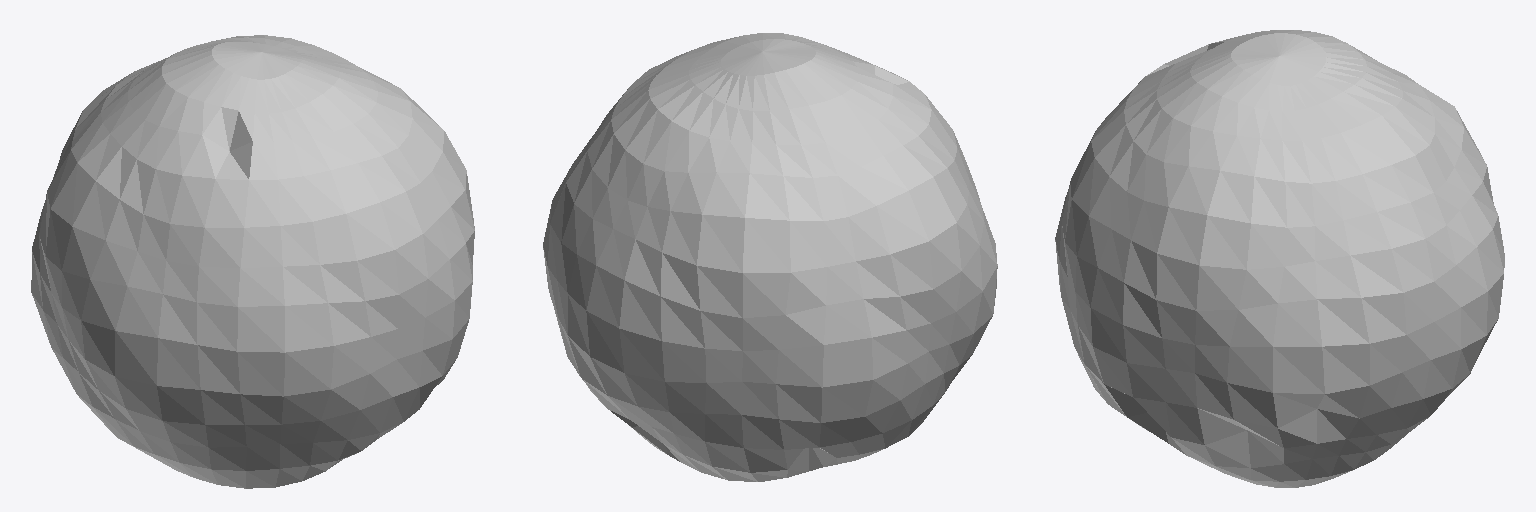
File: World.obj
3 renders of one model, left to right at view 1: azimuth 30°, elevation 25°; view 2: azimuth 150°, elevation 25°; view 3: azimuth 270°, elevation 25°, orthographic.
Visible parts, largest first — view 1: Sphere; view 2: Sphere; view 3: Sphere.
Boxes of the visible parts, <box> form: Sphere: <box>31,35,474,488</box>; Sphere: <box>543,33,997,481</box>; Sphere: <box>1055,30,1504,487</box>.
Size of the model in its own units: 65.94 by 65.94 by 65.88.